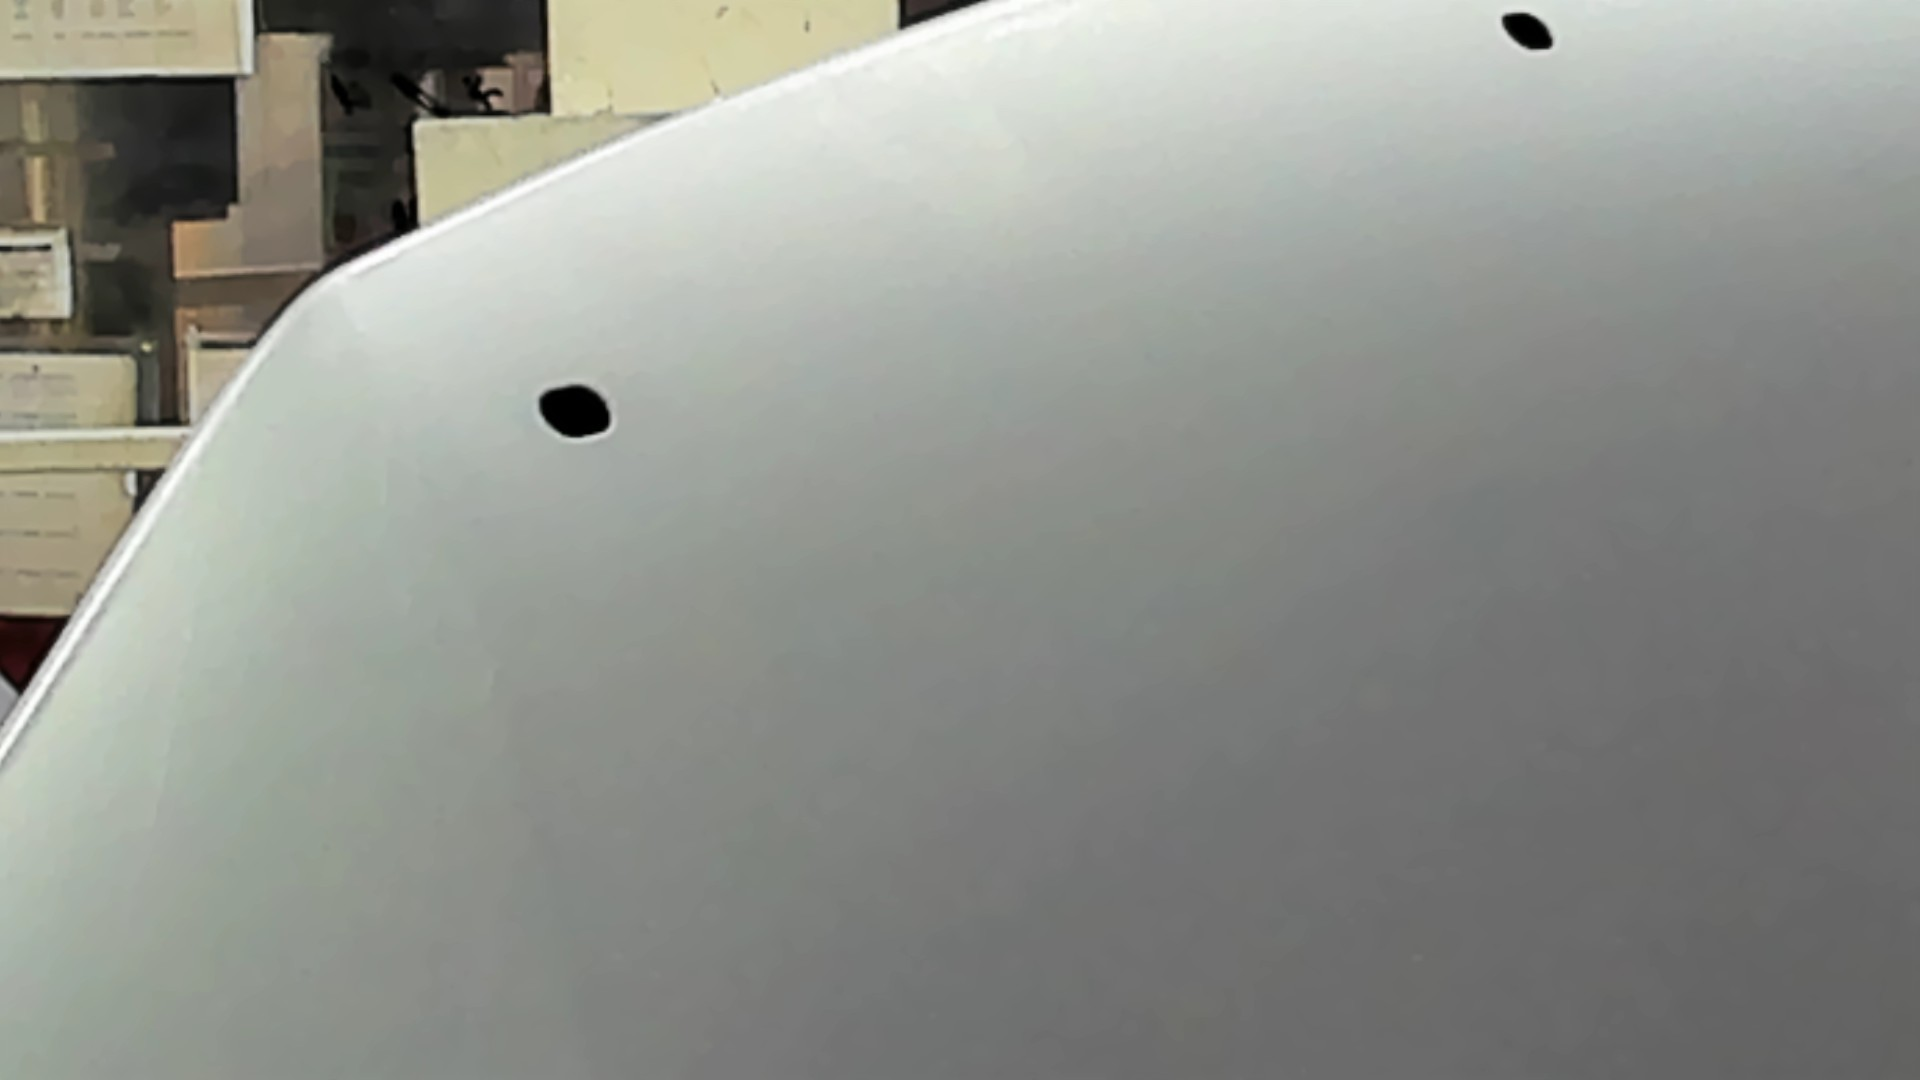amorfo: (531, 375, 618, 442), (1495, 8, 1560, 54)
